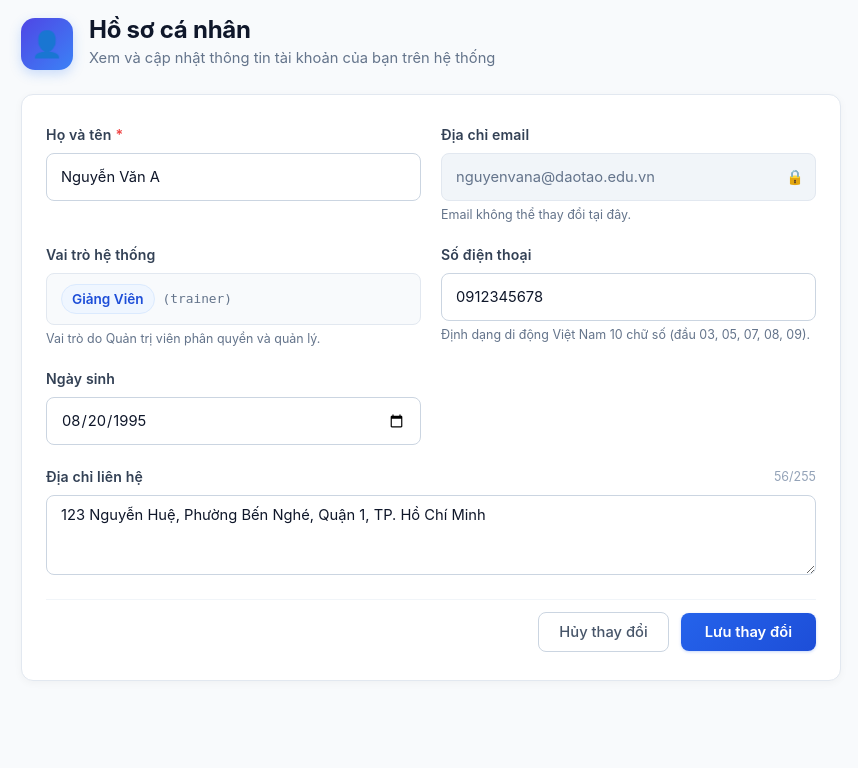
Test case: SCRUM-120: Frontend Hồ sơ cá nhân (Activity A6) › 18. network error: xử lý lỗi mất kết nối máy chủ mà không làm sập trang
Click the button with test id "btn-save-profile": [748, 632] box [681,613,816,651]
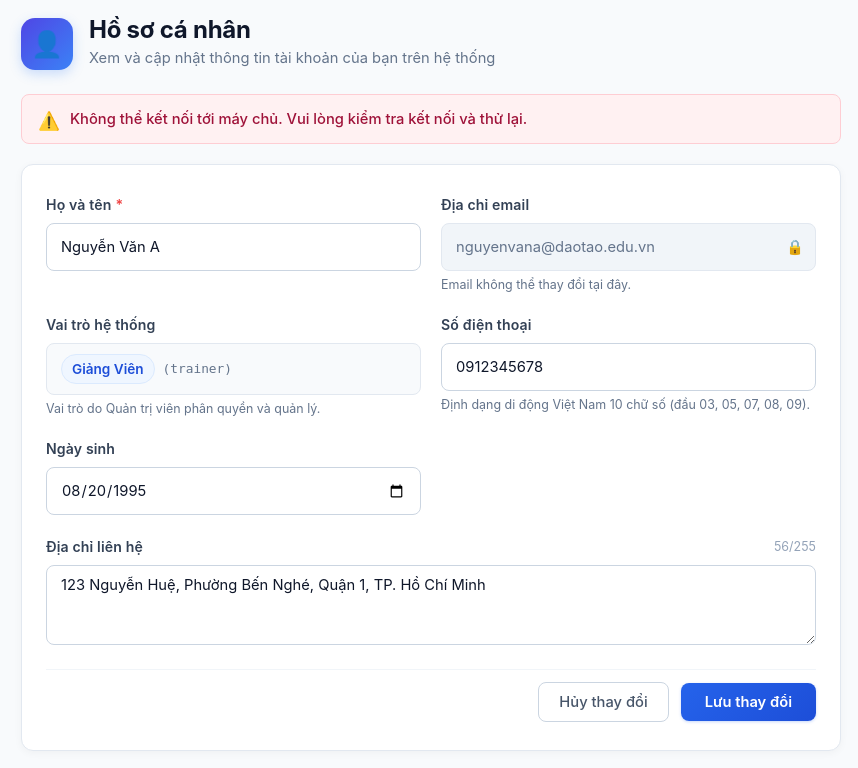
Expected: the message with test id "profile-error-message" shows "Không thể kết nối tới máy chủ.", [70,110,527,128]
